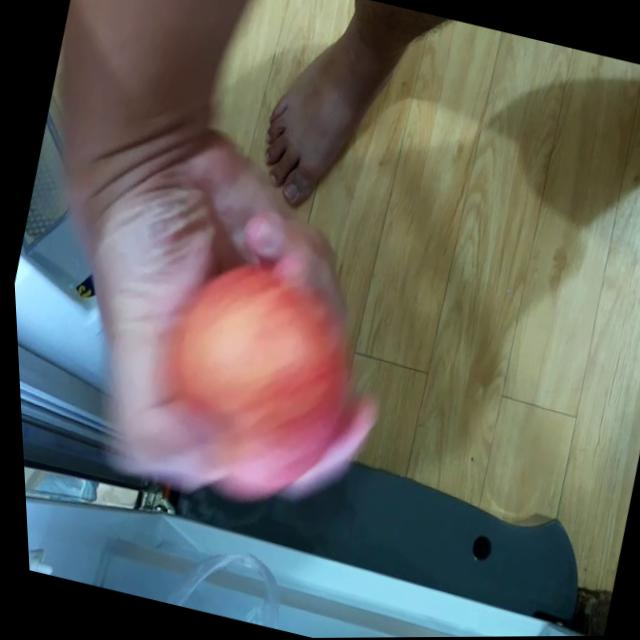apple: (142, 259, 374, 519)
